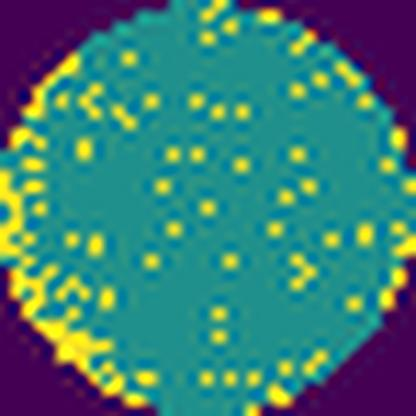Edge-Loc: (0, 171, 140, 407)
